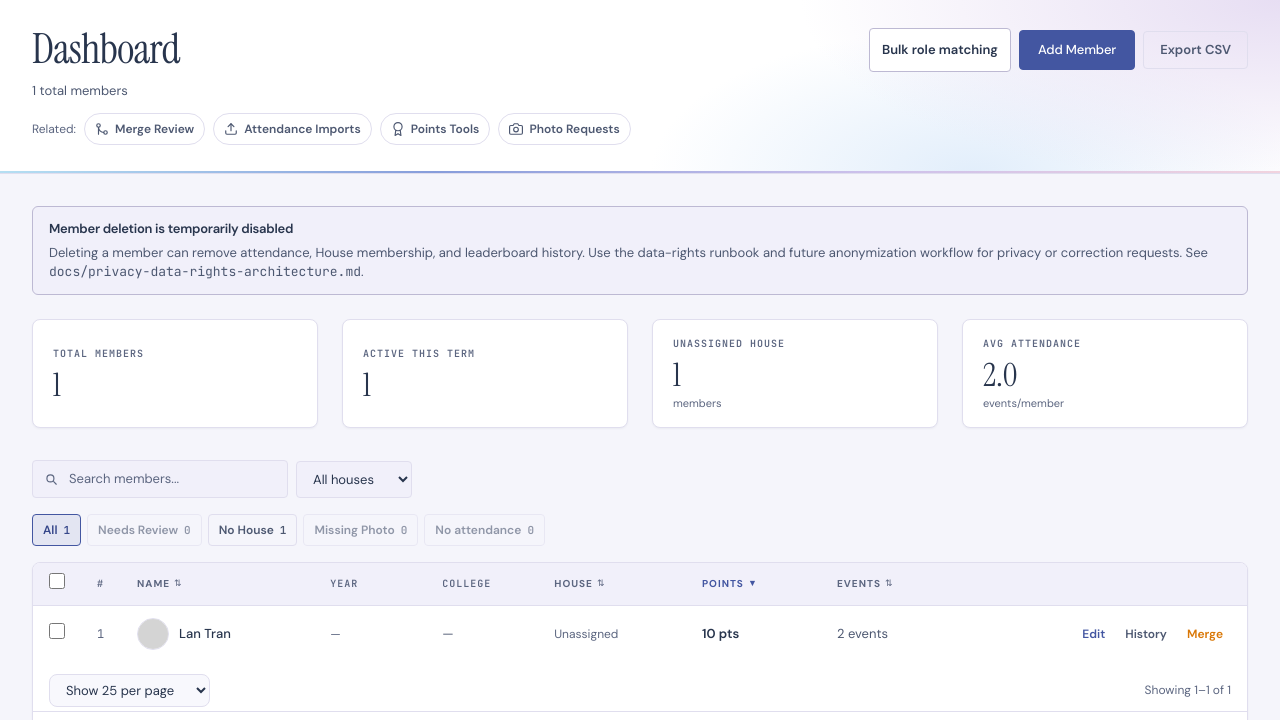
shows the member’s current approved photo in the dialog
This screenshot has width=1280, height=720.
Click the button "Edit". click: (1094, 634)
box: [1074,620,1113,648]
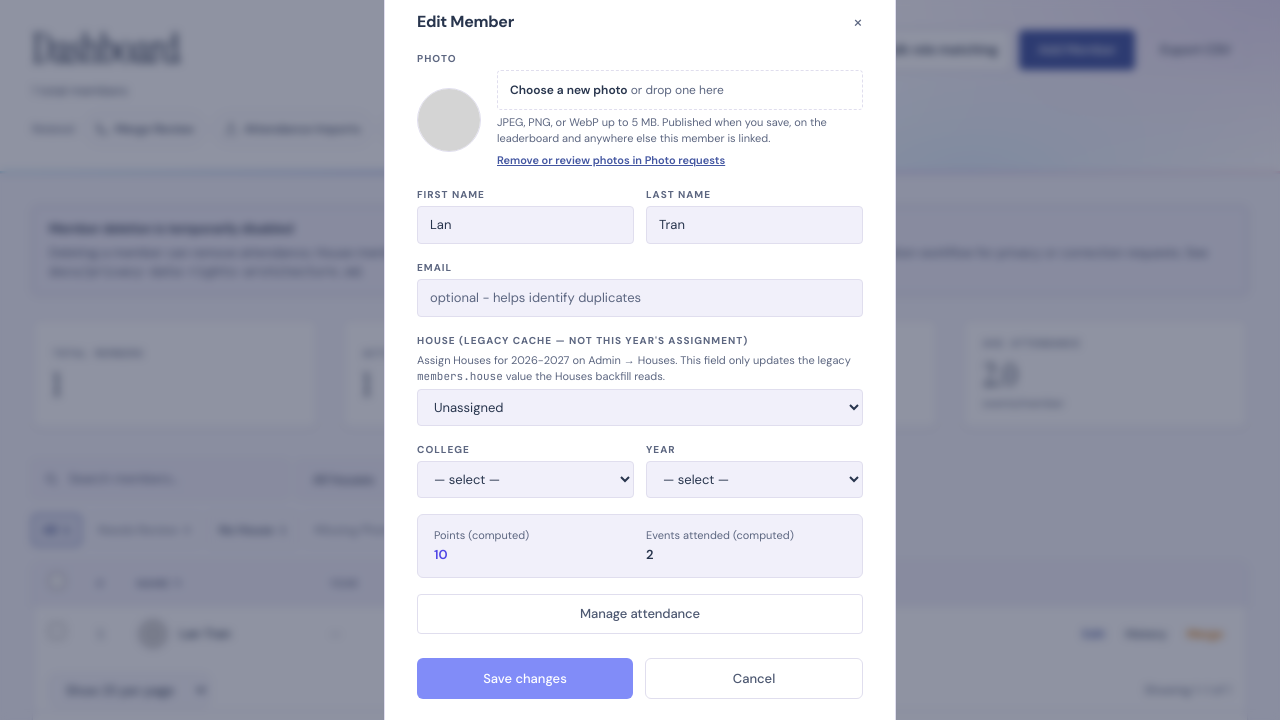
Expected: the button "Choose a new photo or drop one here" is shown, [497,70,863,110]
